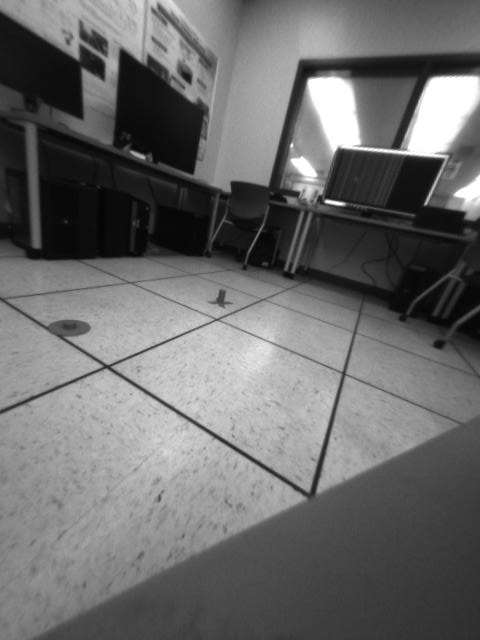X: (205, 289, 233, 309)
